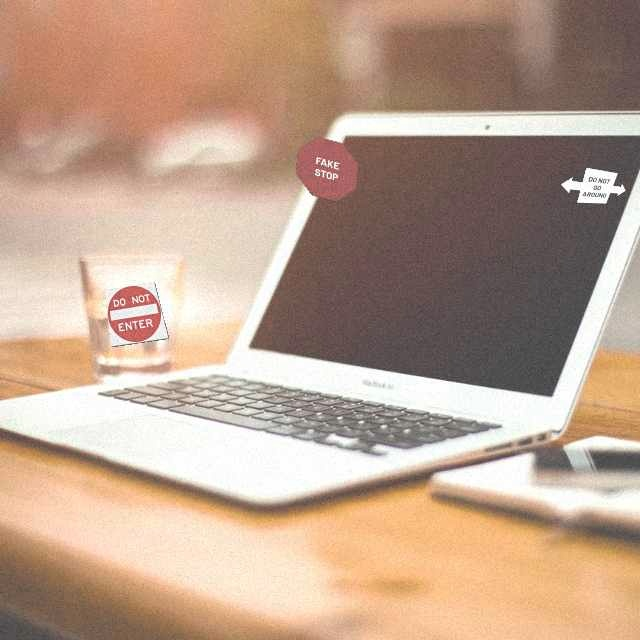DO_NOT_ENTER: (104, 281, 169, 347)
DO_NOT_GO_AROUND: (560, 167, 626, 204)
FAKE_STOP: (295, 136, 359, 202)
